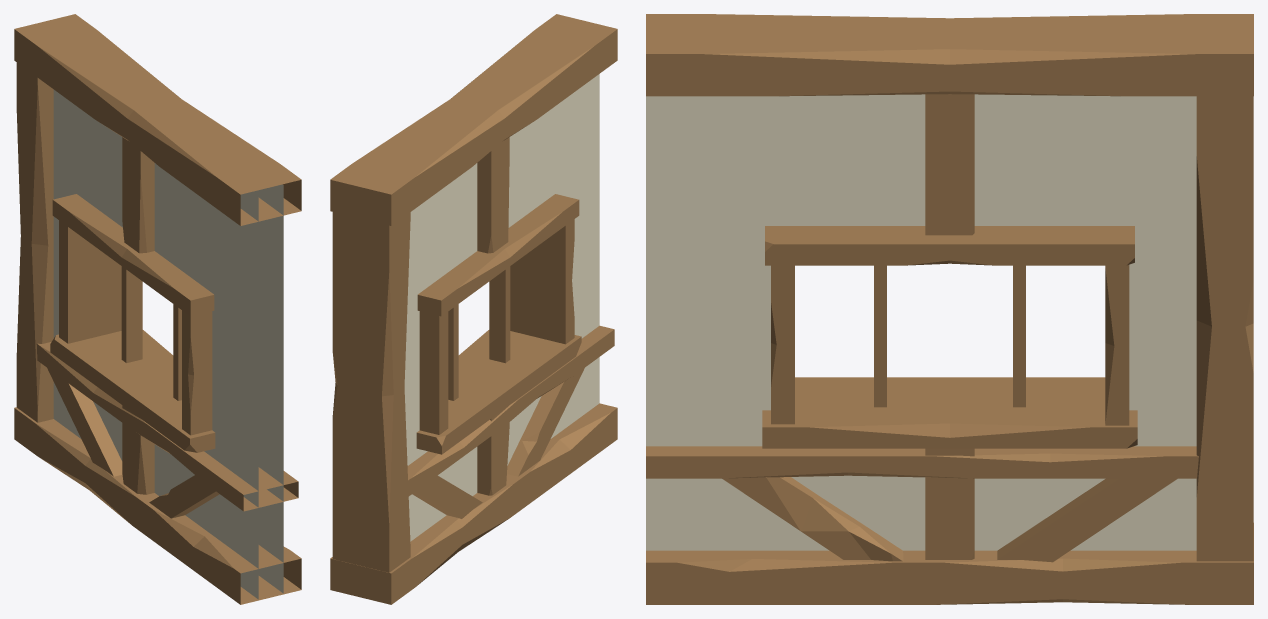
Rendered from SFV_Window4_Wooden_M_003.fbx.
3 renders of one model, left to right at view 1: azimuth 30°, elevation 25°; view 2: azimuth 150°, elevation 25°; view 3: azimuth 270°, elevation 25°, orthographic. The views are drawn at different scales.
Visible parts, largest first — view 1: SFV_Window4_Wooden_M_003; view 2: SFV_Window4_Wooden_M_003; view 3: SFV_Window4_Wooden_M_003.
Boxes of the visible parts, bbox=[...] form: SFV_Window4_Wooden_M_003: bbox=[14, 14, 301, 604]; SFV_Window4_Wooden_M_003: bbox=[330, 14, 617, 604]; SFV_Window4_Wooden_M_003: bbox=[646, 14, 1253, 604].
Bounding box in the file's own units: 59.59 × 300 × 300.
